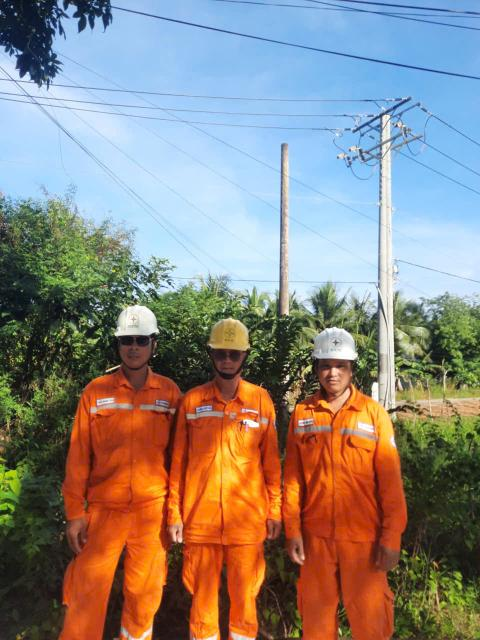helmet: (110, 299, 166, 342), (311, 317, 357, 368), (203, 315, 252, 361)
